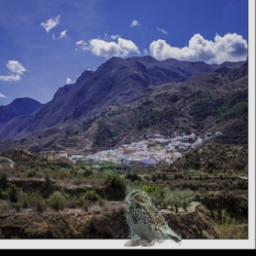Sparrow: (124, 189, 181, 247)
